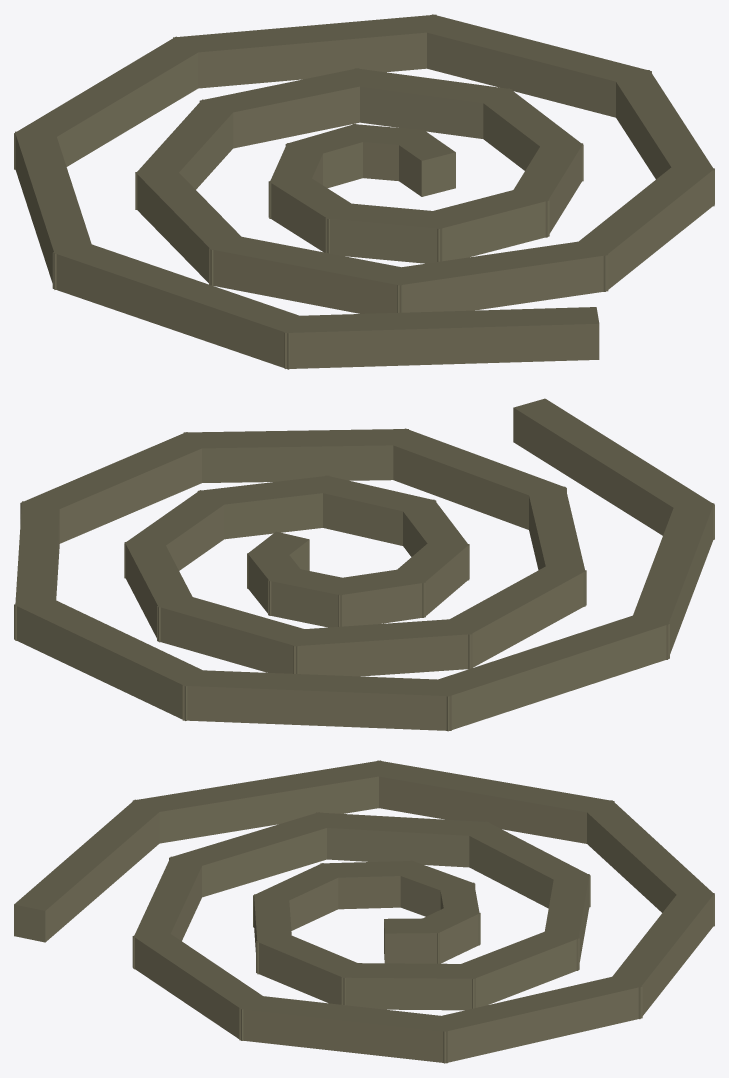
The model's file is SM_Manguera_v3_Enrollada_LOD1.fbx.
The picture shows the model from 3 angles, top to bottom: view 1: azimuth 30°, elevation 25°; view 2: azimuth 150°, elevation 25°; view 3: azimuth 270°, elevation 25°; orthographic projection. The views are drawn at different scales.
Visible parts, largest first — view 1: SM_farp_betera_v8_LOD1; view 2: SM_farp_betera_v8_LOD1; view 3: SM_farp_betera_v8_LOD1.
Boxes of the visible parts, x1=… form: SM_farp_betera_v8_LOD1: x1=14, y1=14, x2=714, y2=369; SM_farp_betera_v8_LOD1: x1=14, y1=398, x2=714, y2=731; SM_farp_betera_v8_LOD1: x1=14, y1=760, x2=714, y2=1063.
Bounding box in the file's own units: 6.26 × 0.34 × 6.83.
